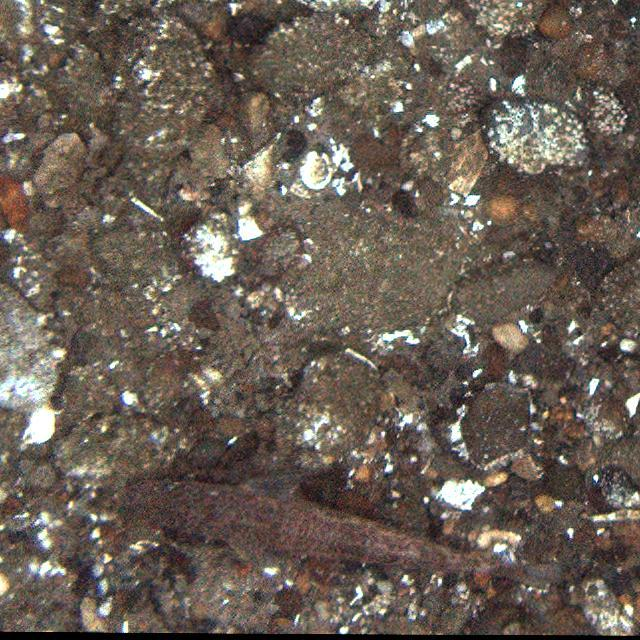roundfish: (129, 469, 559, 598)
